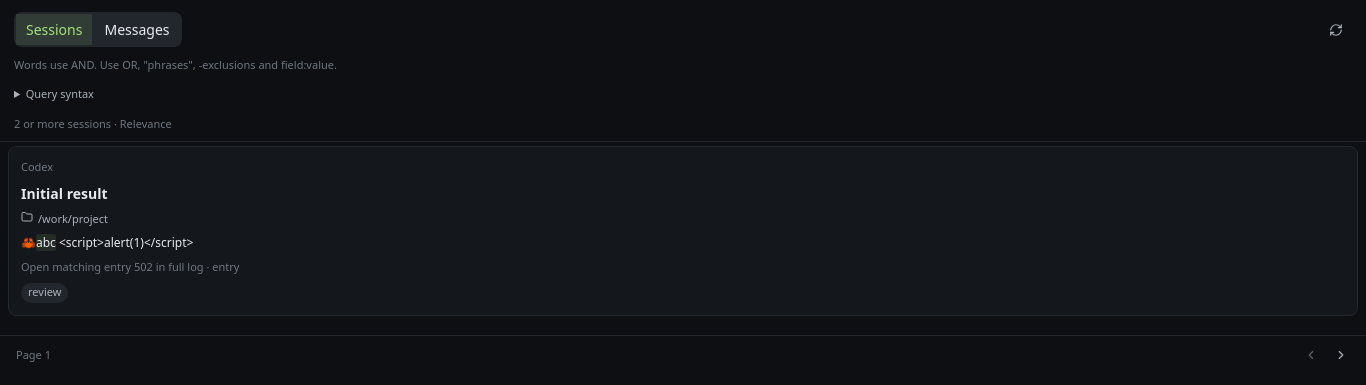
a changed library requires an explicit restart instead of silently shifting pages
This screenshot has width=1366, height=385.
Expected: the button that starts with "Codex" is shown, left=8, top=146, right=1358, bottom=316
What coordinates should you click on to do the following:
click the button named "Next developer results"
I would click on:
 (1341, 355)
Its box is left=1328, top=342, right=1354, bottom=368.
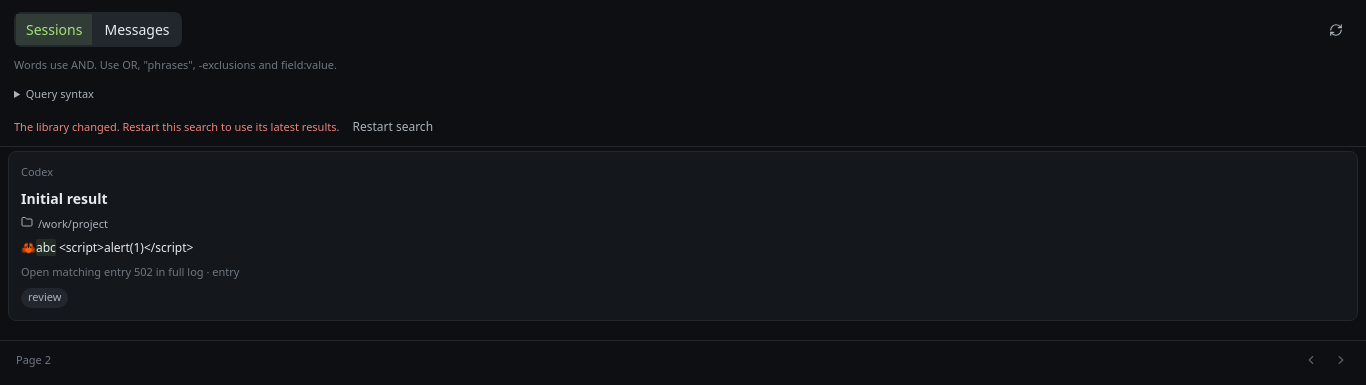
Now the message shows "The library changed", box left=14, top=119, right=340, bottom=134
What coordinates should you click on to do the following:
click the button "Restart search"
I would click on:
 (393, 127)
Its box is left=346, top=114, right=439, bottom=140.
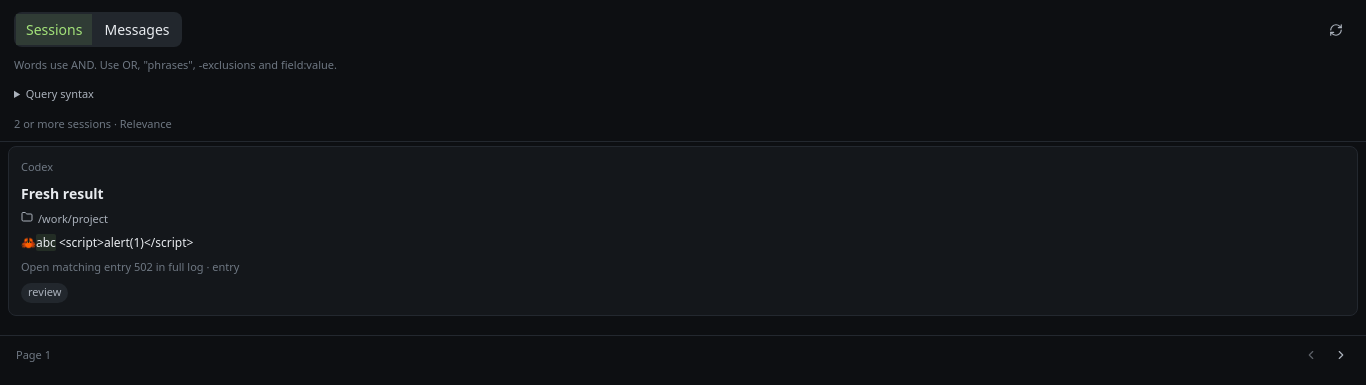
Now the button that starts with "Codex" is shown, box left=8, top=146, right=1358, bottom=316
Now the text "Page 1" is shown, box left=16, top=347, right=51, bottom=363
